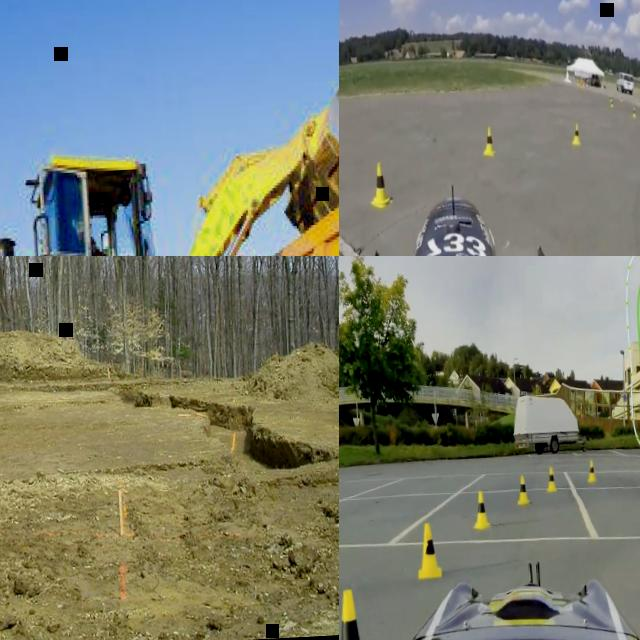NO-Safety Vest: (88, 235, 101, 256)
Person: (74, 216, 136, 256)
Safety Cone: (339, 584, 374, 640), (416, 521, 442, 581), (368, 160, 396, 210), (471, 488, 489, 530), (516, 473, 530, 508), (481, 126, 495, 160), (585, 457, 597, 485), (546, 465, 557, 495), (572, 123, 584, 146), (632, 106, 638, 122), (608, 96, 615, 109), (620, 94, 624, 104)
vehicle: (0, 64, 339, 256), (339, 548, 640, 640), (339, 177, 640, 256), (229, 59, 339, 256), (614, 71, 634, 95)
